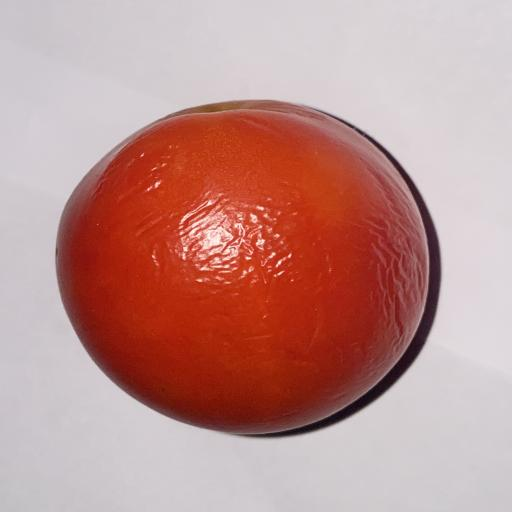spoiled: (56, 101, 429, 434)
